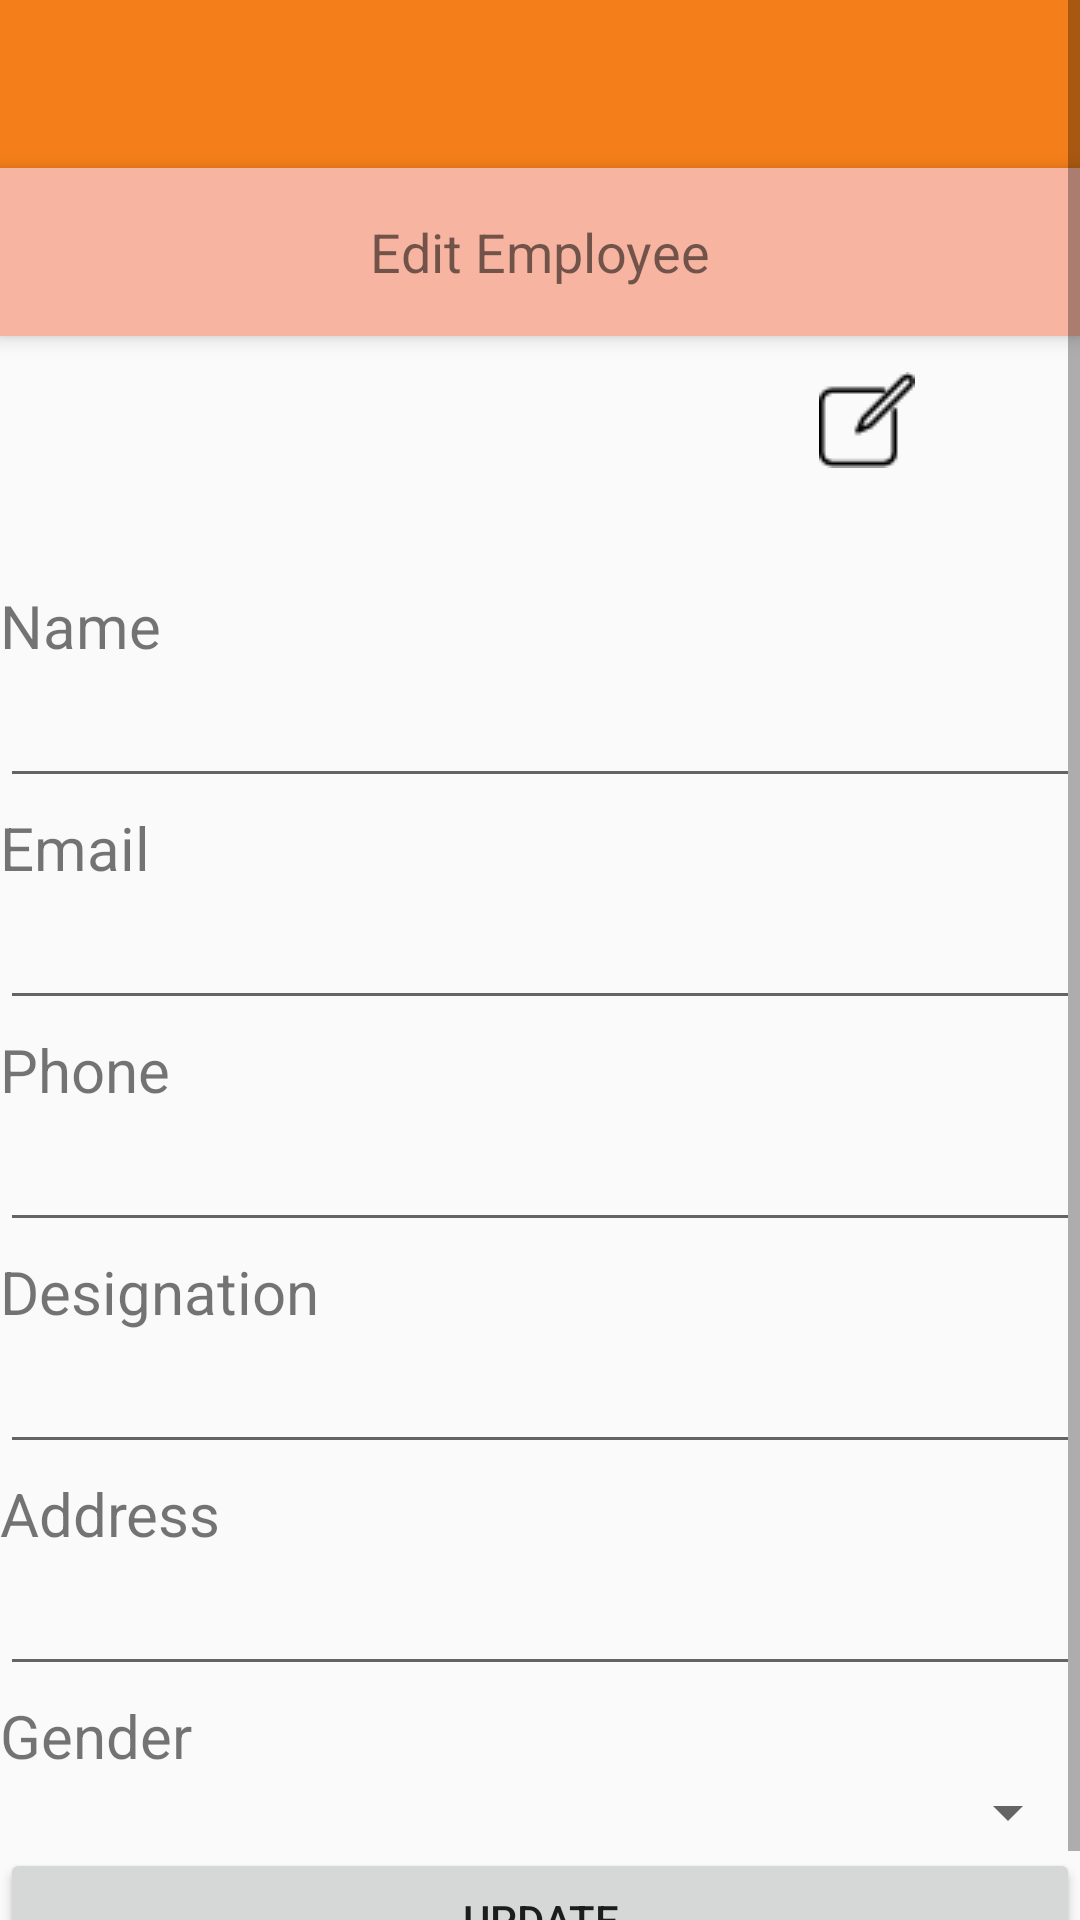

Screen size 1080w x 1920h. Icon name, then its center in pixels as point (x, y):
editbutton: point (867, 420)
